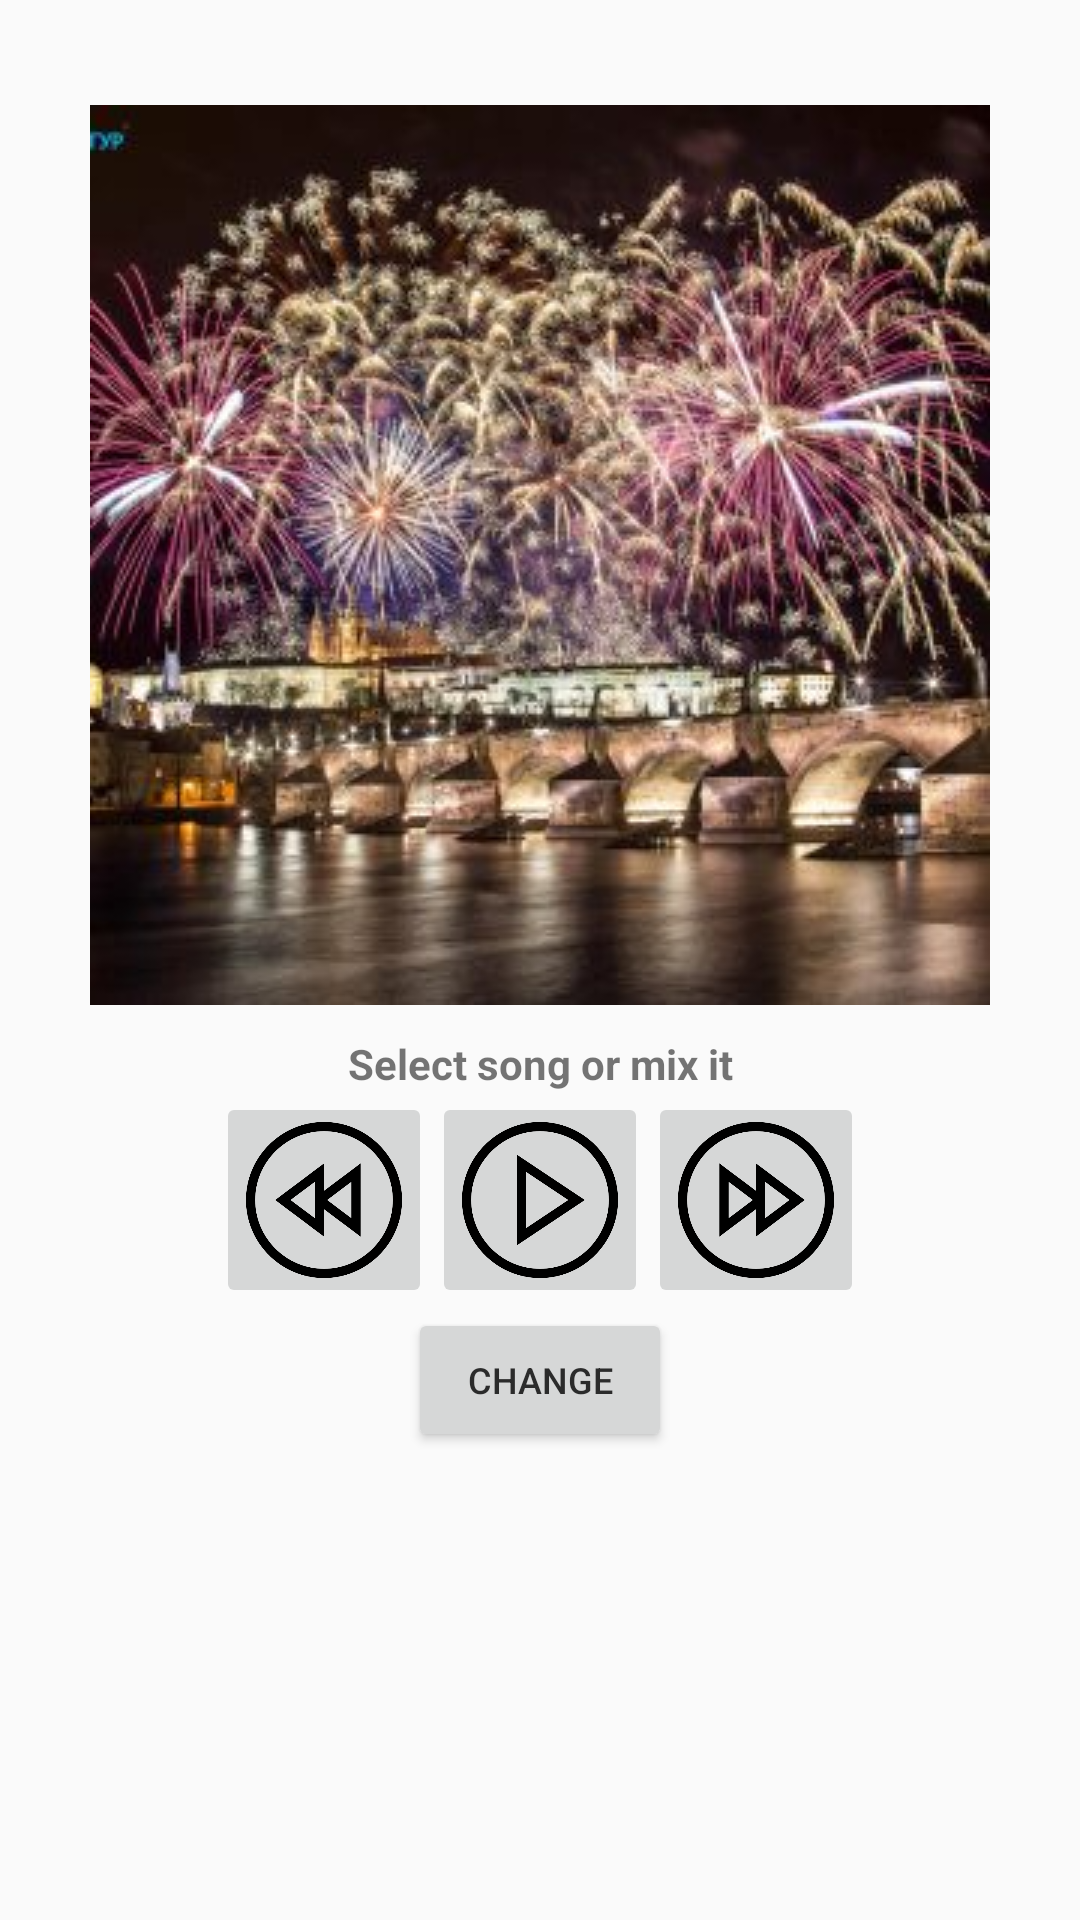

Icons on this 1080px x 1920px Android screen, each with the point to tap as [x,y]:
backward: [324,1200]
forwards: [756,1200]
play: [540,1200]
